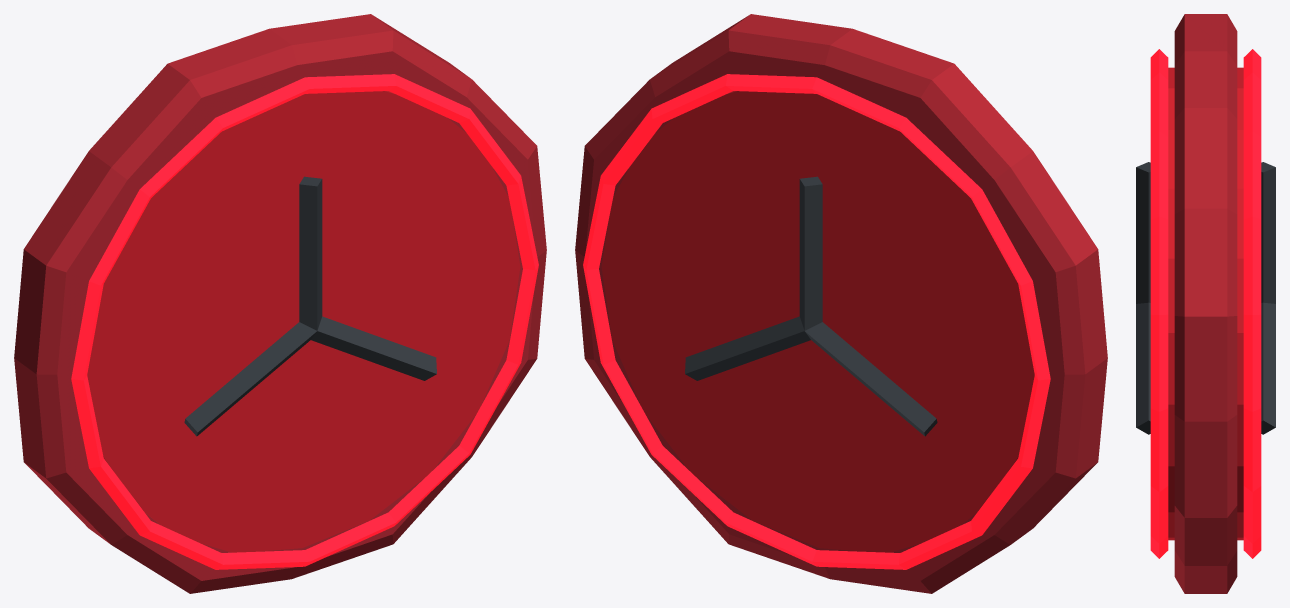
Rendered from points-50-lod0.glb.
3 views of the same model, side by side, from view 1: azimuth 30°, elevation 25°; view 2: azimuth 150°, elevation 25°; view 3: azimuth 270°, elevation 25° (orthographic). The views are drawn at different scales.
Parts seen in each view (by area): view 1: red enamel face, chamfered gear rim, red luminous inset, neutral three spoke glyph, neutral three spoke glyph.001, neutral three spoke glyph.002; view 2: red enamel face.001, chamfered gear rim, red luminous inset.001, neutral three spoke glyph.003, neutral three spoke glyph.004, neutral three spoke glyph.005; view 3: chamfered gear rim, red luminous inset, red luminous inset.001, red enamel face, red enamel face.001, neutral three spoke glyph, neutral three spoke glyph.003, neutral three spoke glyph.002, neutral three spoke glyph.005.
Part boxes in pixels (x1,y1,x2,y2): red enamel face: (87,91,520,552); chamfered gear rim: (14,14,546,593); red luminous inset: (71,74,538,569); neutral three spoke glyph: (299,176,322,330); neutral three spoke glyph.001: (184,322,316,436); neutral three spoke glyph.002: (311,316,436,380); red enamel face.001: (601,91,1034,552); chamfered gear rim: (575,14,1107,593); red luminous inset.001: (583,74,1050,569); neutral three spoke glyph.003: (799,176,822,330); neutral three spoke glyph.004: (805,322,937,436); neutral three spoke glyph.005: (685,316,810,380); chamfered gear rim: (1174,14,1237,593); red luminous inset: (1150,49,1168,558); red luminous inset.001: (1243,49,1261,558); red enamel face: (1168,67,1174,540); red enamel face.001: (1237,67,1243,540); neutral three spoke glyph: (1136,162,1150,303); neutral three spoke glyph.003: (1261,162,1275,303); neutral three spoke glyph.002: (1136,302,1150,434); neutral three spoke glyph.005: (1261,302,1275,434).
Bounding box in the file's own units: 0.576 × 0.576 × 0.1444.
